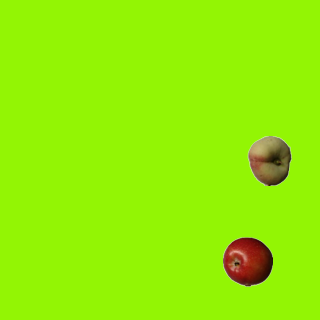Apple Braeburn: (222, 236, 272, 286)
Peach Flat: (244, 135, 294, 185)
